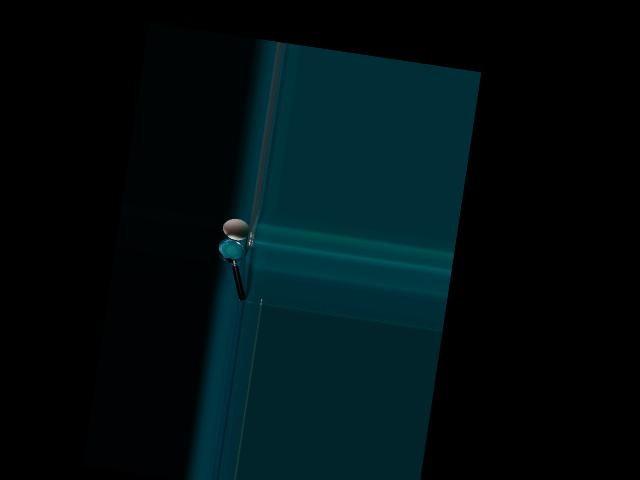egg: (221, 216, 251, 241)
